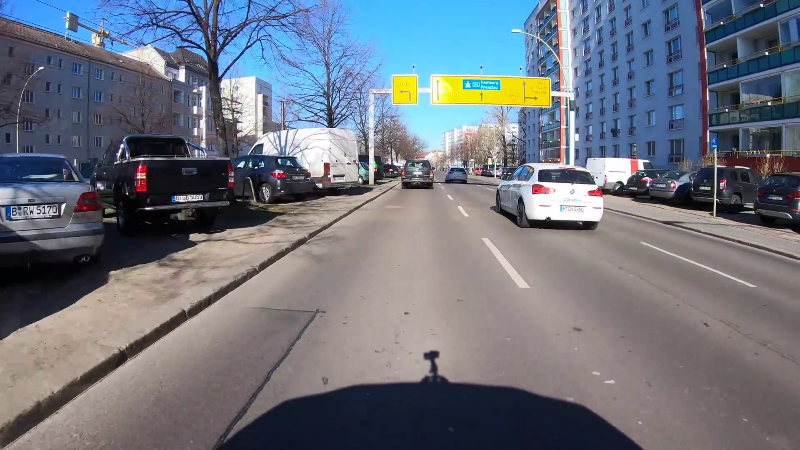Plate: (4, 202, 61, 219), (171, 192, 203, 201), (558, 203, 586, 213)
